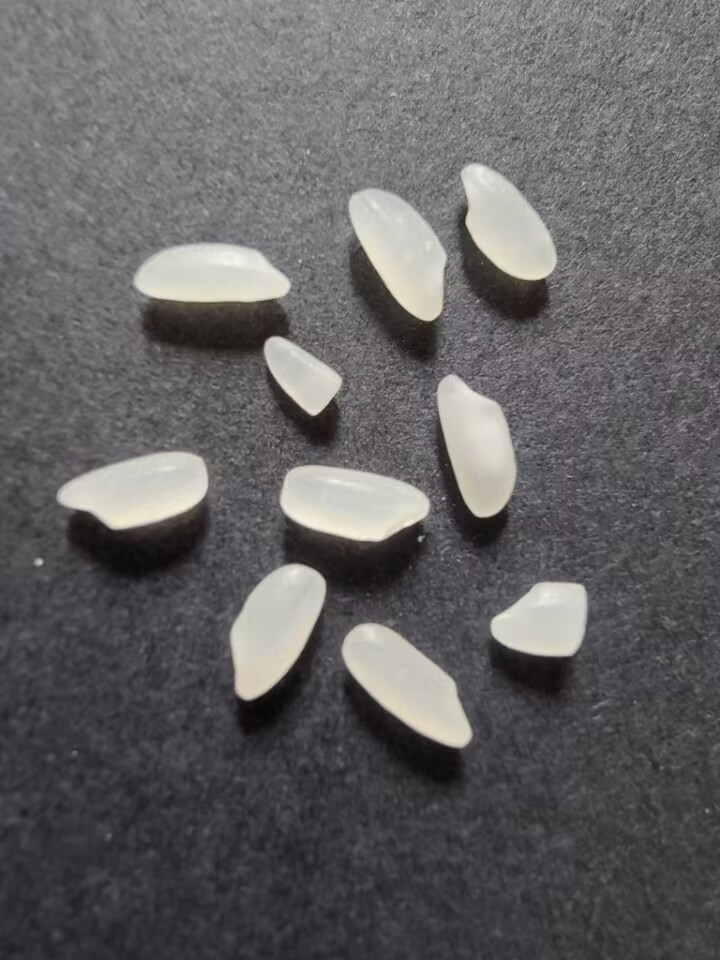broken: (484, 576, 595, 667), (259, 331, 349, 419)
rice: (338, 620, 473, 753), (343, 182, 451, 326), (224, 560, 328, 703), (275, 461, 440, 547), (453, 158, 562, 287), (53, 448, 214, 532), (434, 369, 522, 522), (128, 239, 296, 306)
